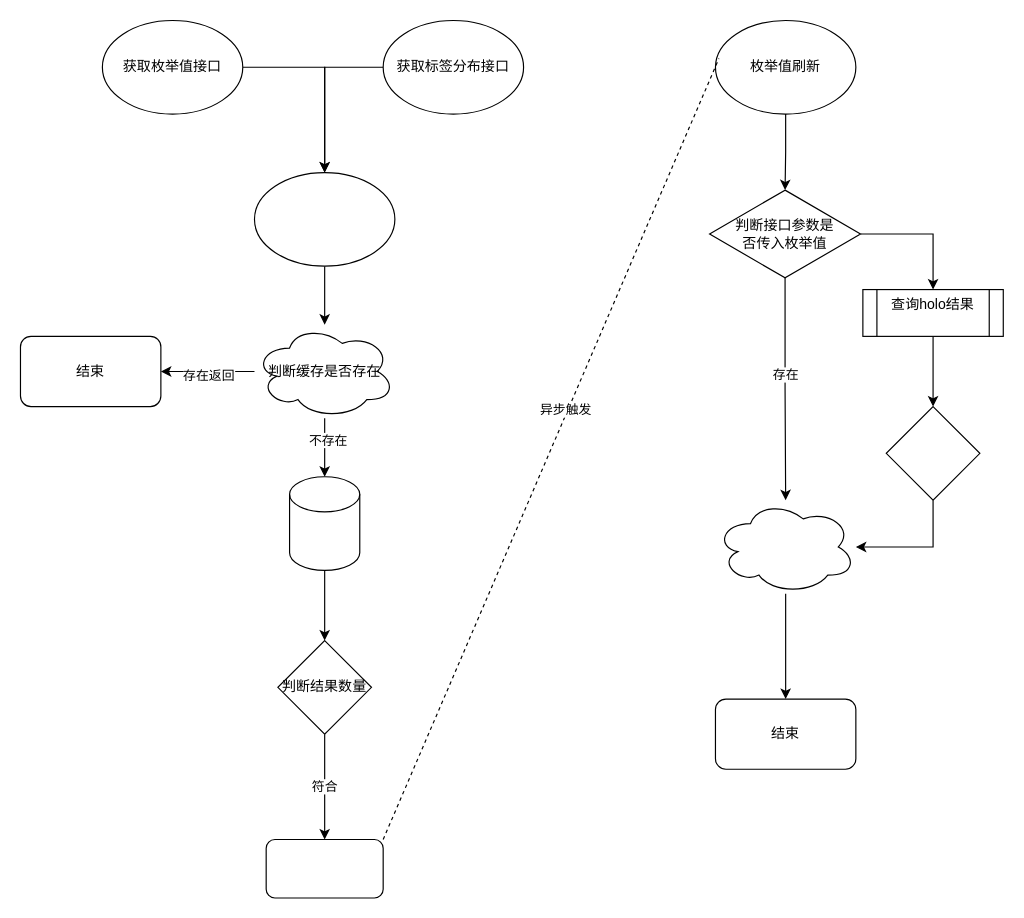
The diagram is 1024 pixels wide and 918 high, and some of its shapes have lost their labels. The centre of each missing label's shape, as x and y in pixels:
"写入缓存" goes at pixel 785 546.
"判断结果 数量" goes at pixel 932 452.
"封装返回" goes at pixel 324 868.
"枚举值获取" goes at pixel 324 218.
"读取holo" goes at pixel 324 523.
